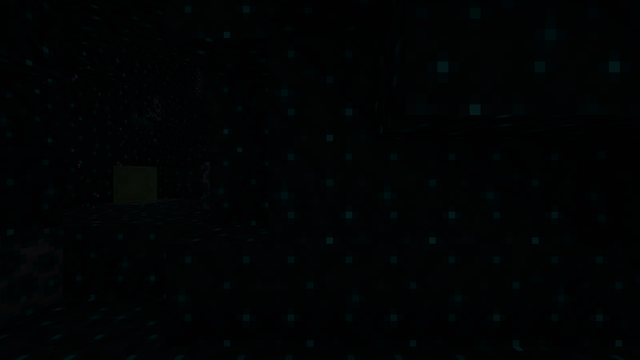slimes: (117, 164, 159, 202)
